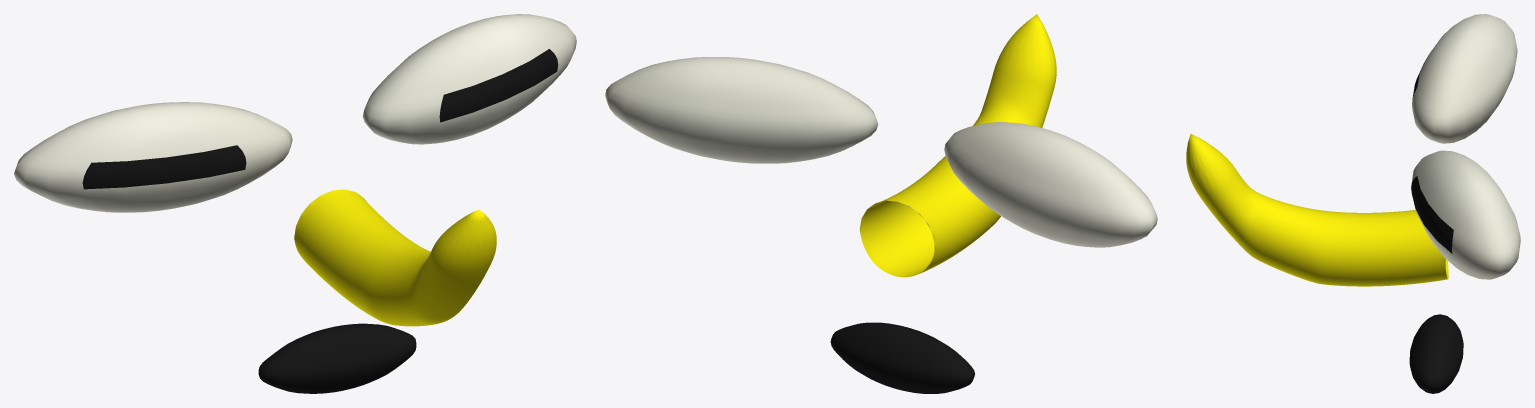
File: CaraLimonagrio_obj.obj
The picture shows the model from 3 angles, left to right: view 1: azimuth 30°, elevation 25°; view 2: azimuth 150°, elevation 25°; view 3: azimuth 270°, elevation 25°; orthographic projection. The views are drawn at different scales.
Parts seen in each view (by area): view 1: Cara; view 2: Cara; view 3: Cara.
Part boxes in pixels (x1,y1,x2,y2): Cara: [14, 14, 576, 393]; Cara: [605, 14, 1157, 393]; Cara: [1186, 14, 1520, 393].
Size of the model in its own units: 2.09 by 1.11 by 1.23.
